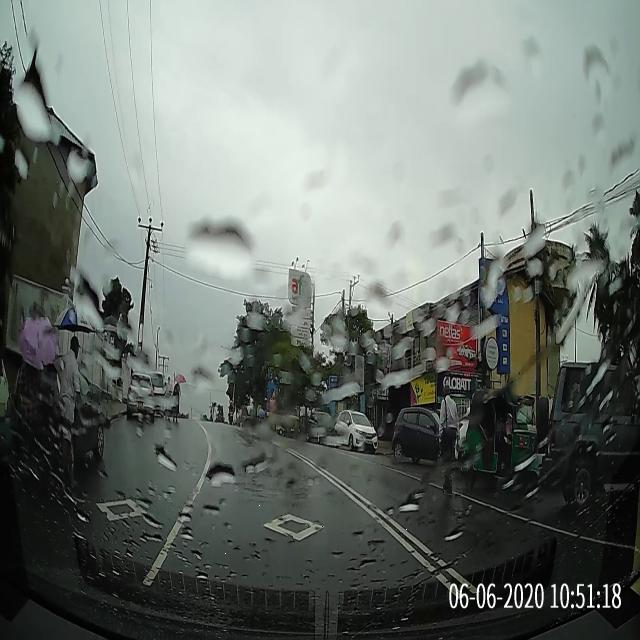diamond: (167, 495, 424, 556)
